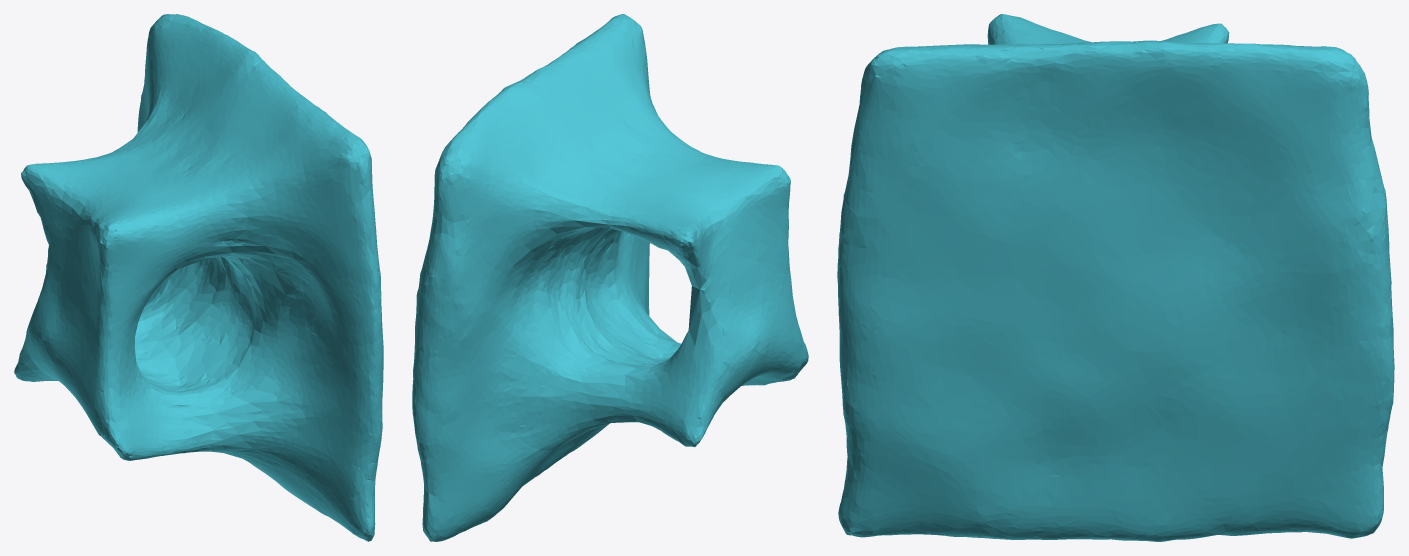
The picture shows the model from 3 angles, left to right: view 1: azimuth 30°, elevation 25°; view 2: azimuth 150°, elevation 25°; view 3: azimuth 270°, elevation 25°; orthographic projection. The views are drawn at different scales.
Parts seen in each view (by area): view 1: Renderer Node; view 2: Renderer Node; view 3: Renderer Node.
Part boxes in pixels (<box>): Renderer Node: <box>14,14,383,541</box>; Renderer Node: <box>412,14,808,541</box>; Renderer Node: <box>837,14,1394,541</box>.
Size of the model in its own units: 0.3958 by 0.6284 by 0.6324.
1 material, 1 textured.
